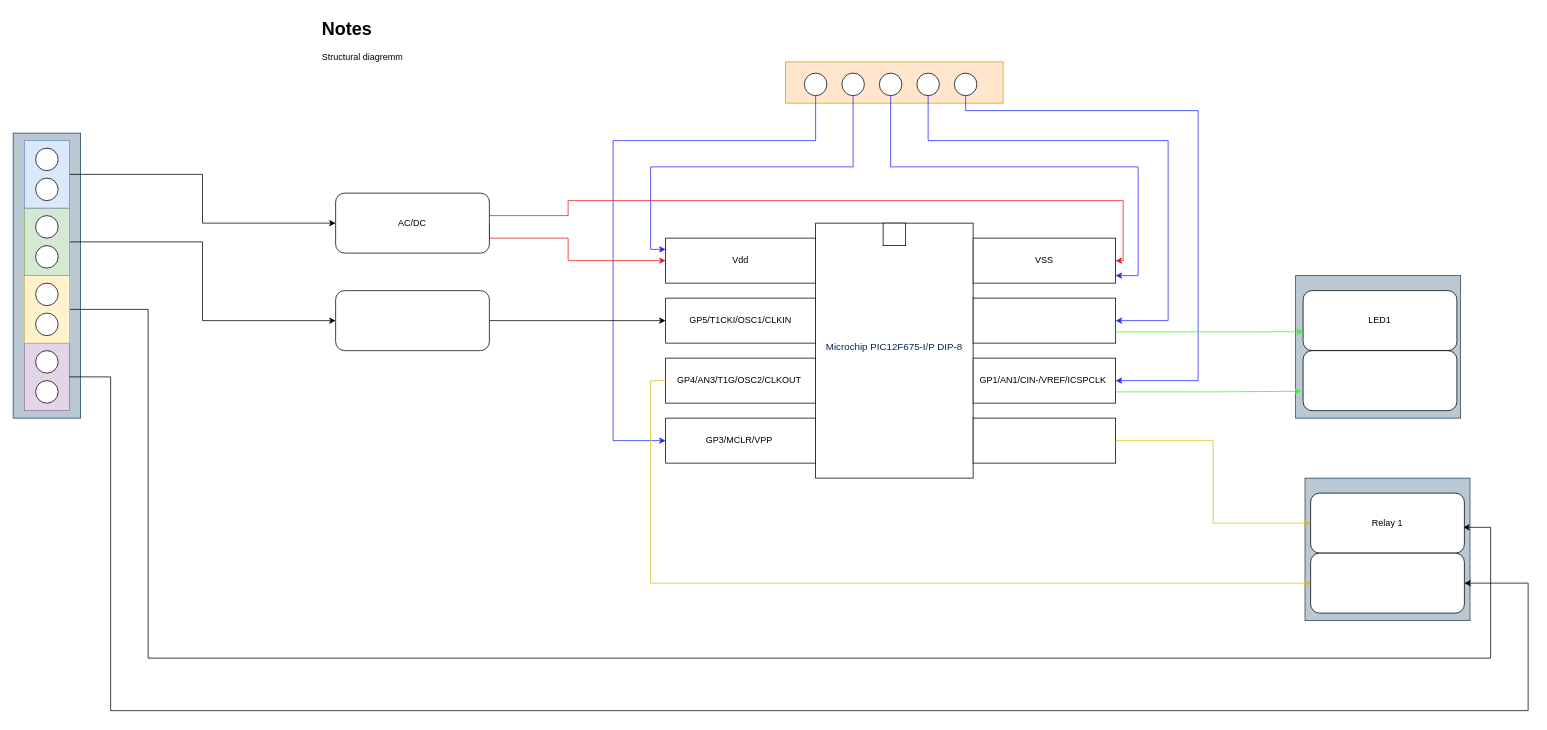
Image size: 1547x730. Some labels were removed from this diagram. The shapes that lost their labels are listed below. From the top down, each one's box as (x1, y1, x2, y2) in pixels, then its label:
(335, 290, 489, 351): Voltage sensor
(972, 297, 1116, 343): GP0/AN0/CIN+/ICSPDAT
(1302, 350, 1457, 411): LED2
(972, 417, 1116, 463): GP2/AN2/T0CKI/INT/COUT
(1310, 552, 1464, 613): Relay 2
